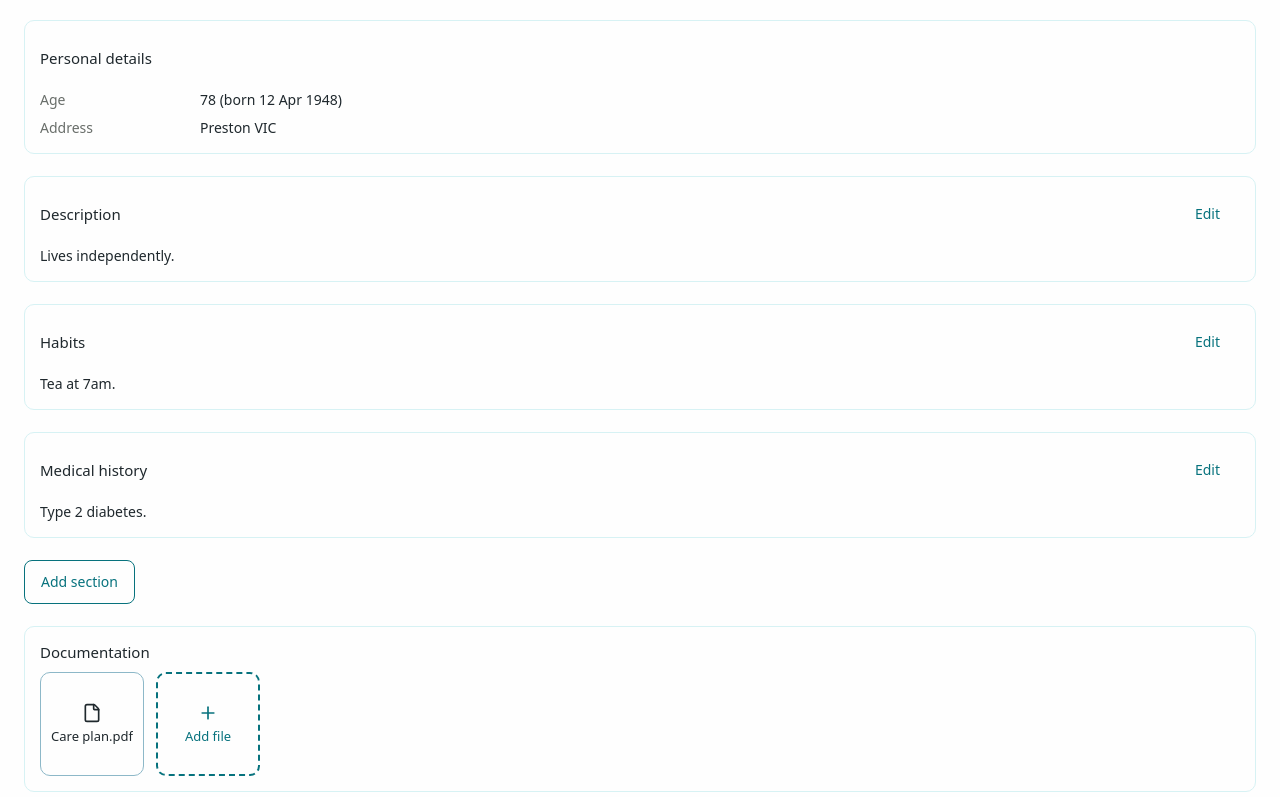
Test: [FAM-09] saving a section › [FAM-09][AC-03] T-03 when the contract says the text is too long, the message shows under the box, the draft stays and the old text is not replaced
Click the button with aria-label "Edit Habits": (1207, 342) [1175,320,1240,364]
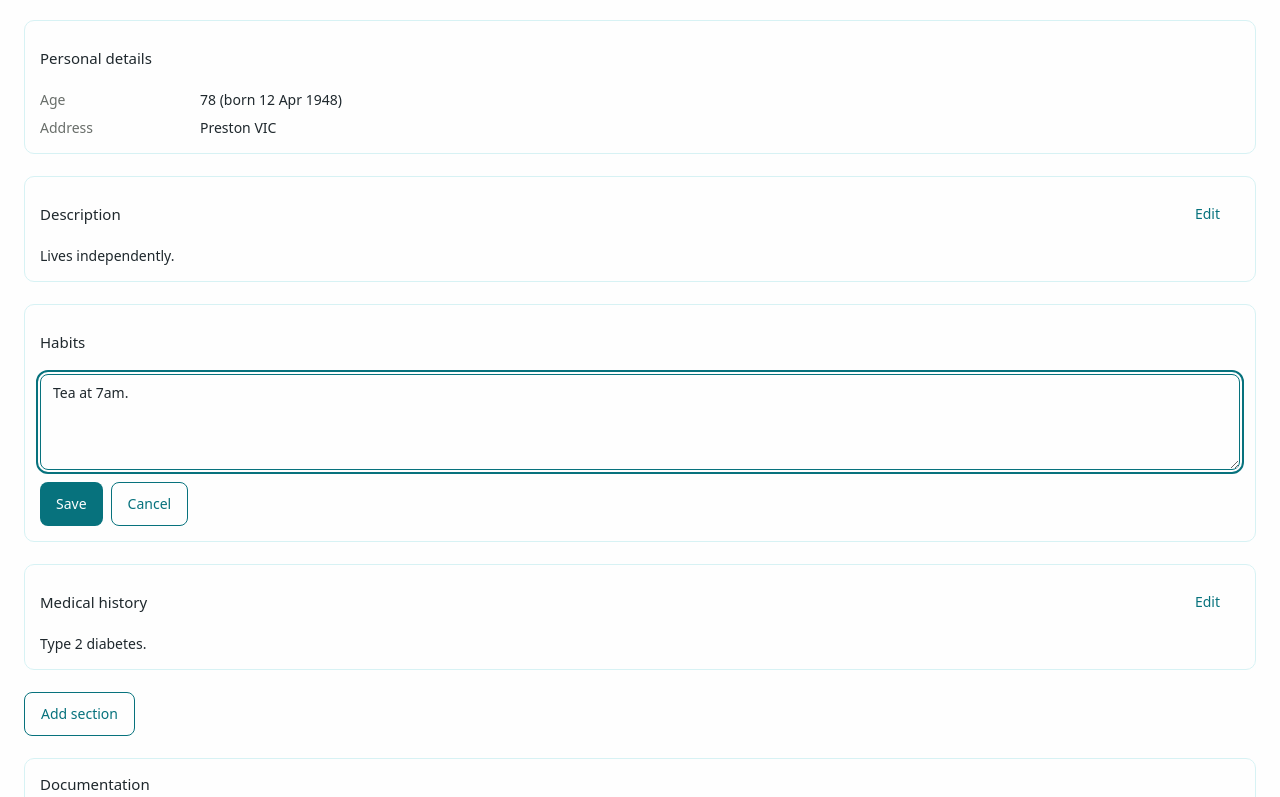
Replace the text in the text box with "A very long habit": (640, 422) [40,374,1240,470]
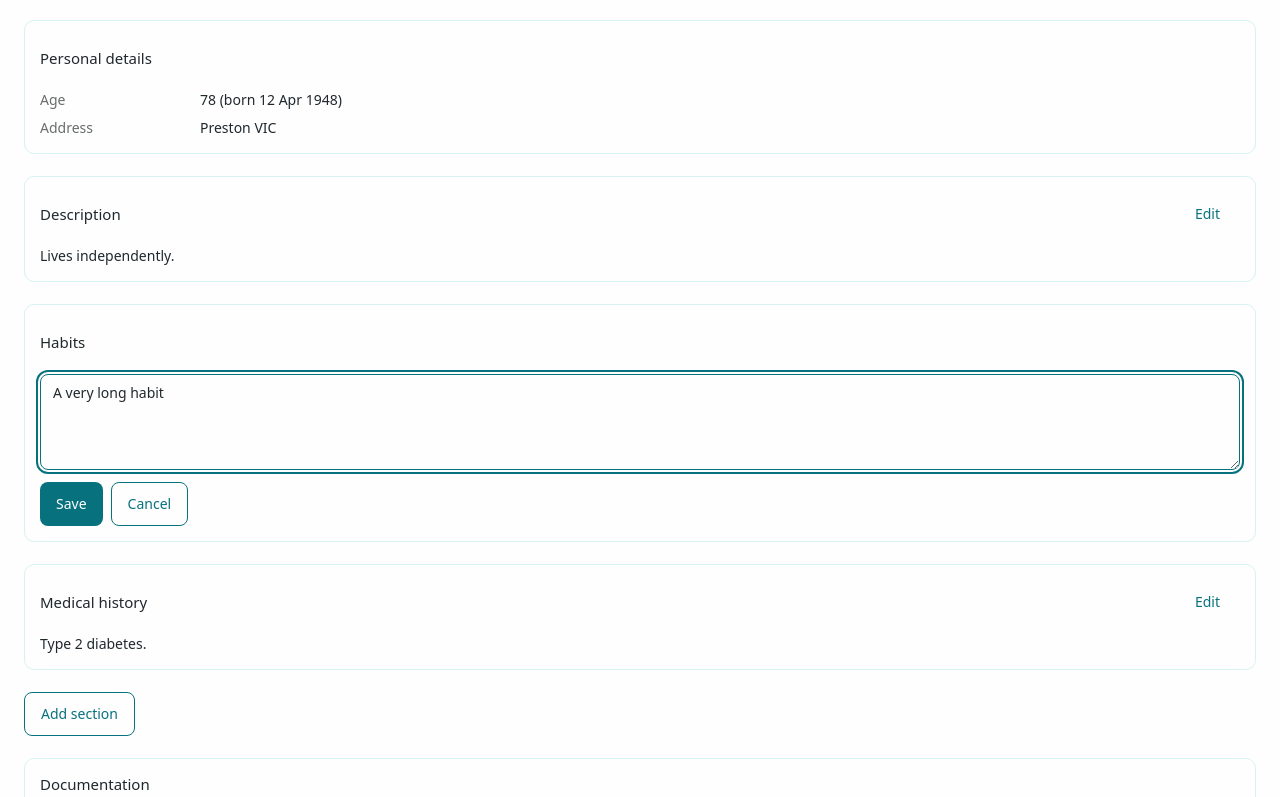
Click the button "Save": (71, 504) [40,482,103,526]
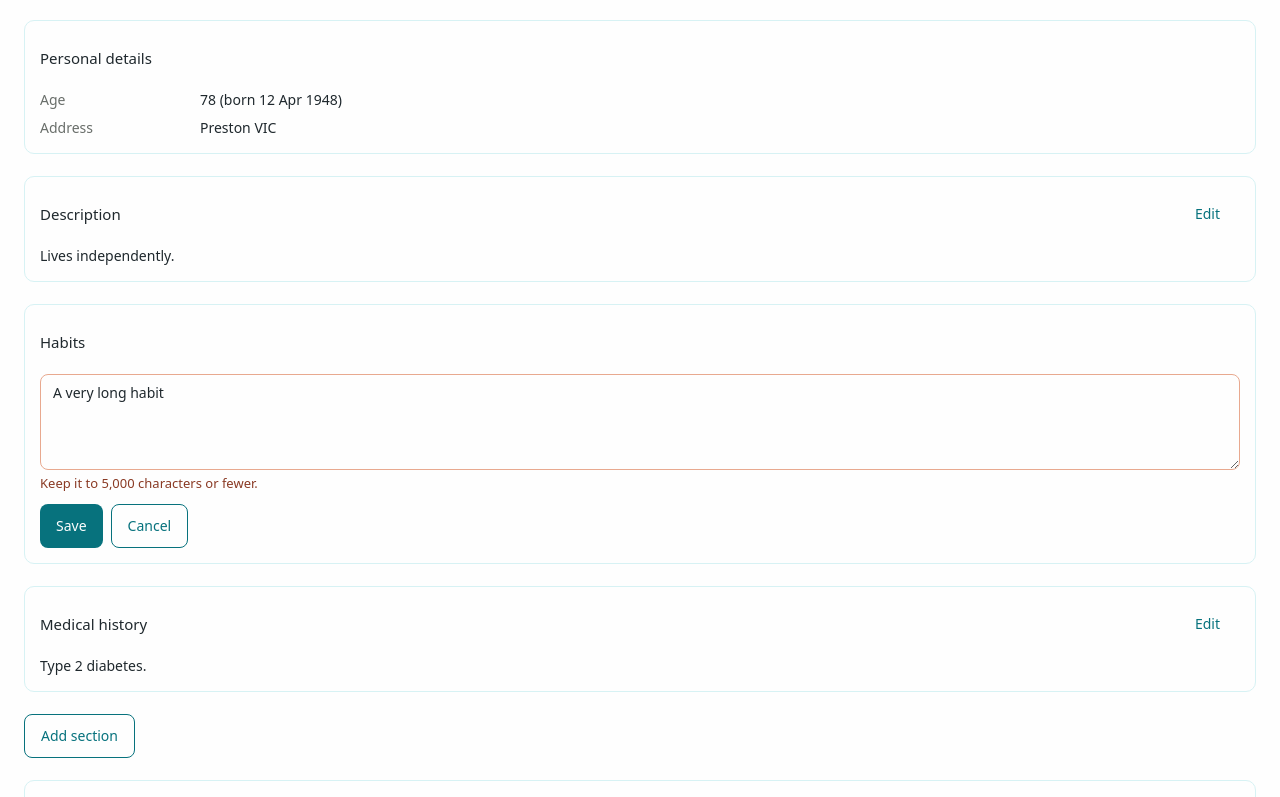
Now the text "Keep it to 5,000 characters or fewer." is shown, box [40,474,258,492]
Click the button "Cancel": (149, 526) [111,504,188,548]
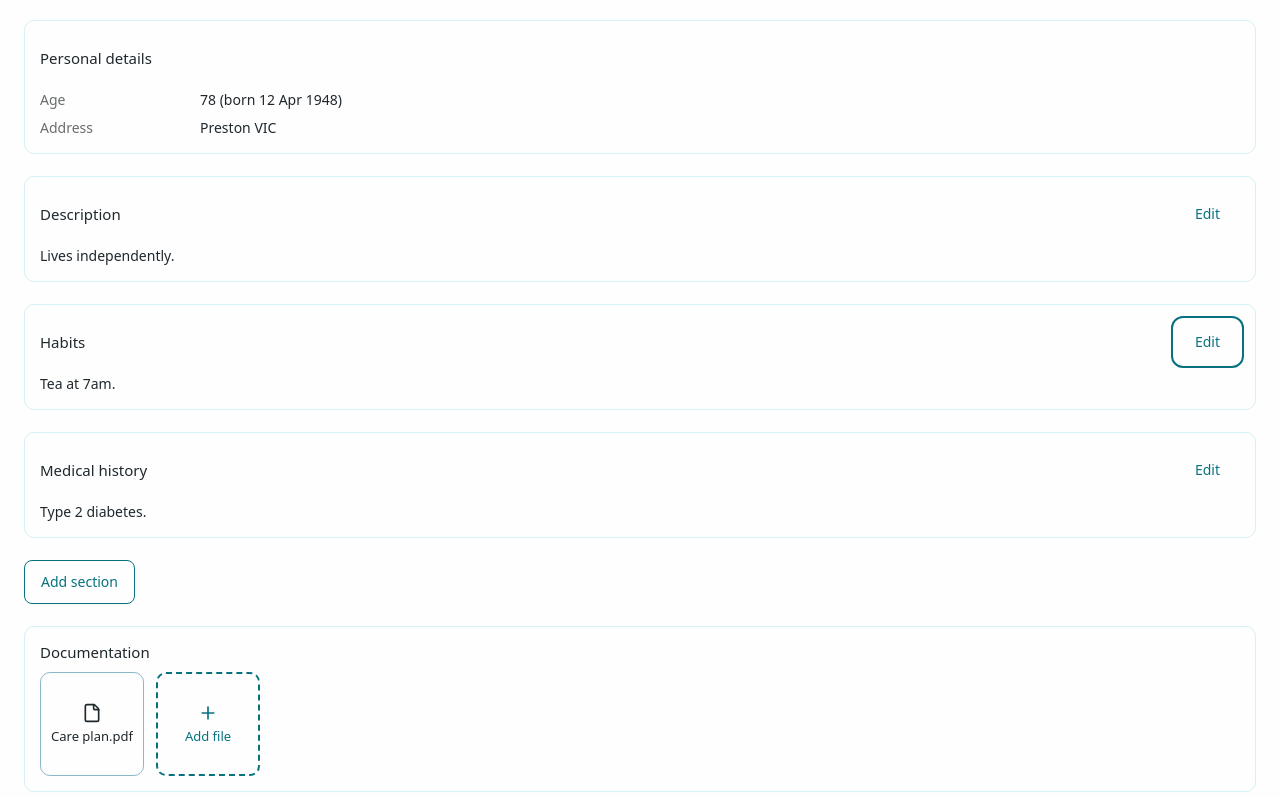
Now the text "Tea at 7am." is shown, box [40,374,116,393]
